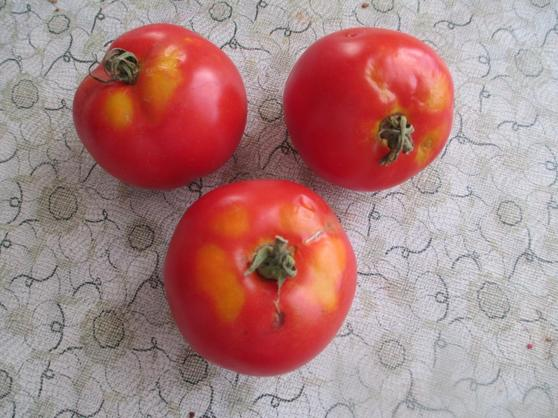tomato: (163, 176, 359, 376), (71, 24, 247, 184), (284, 29, 454, 190)
